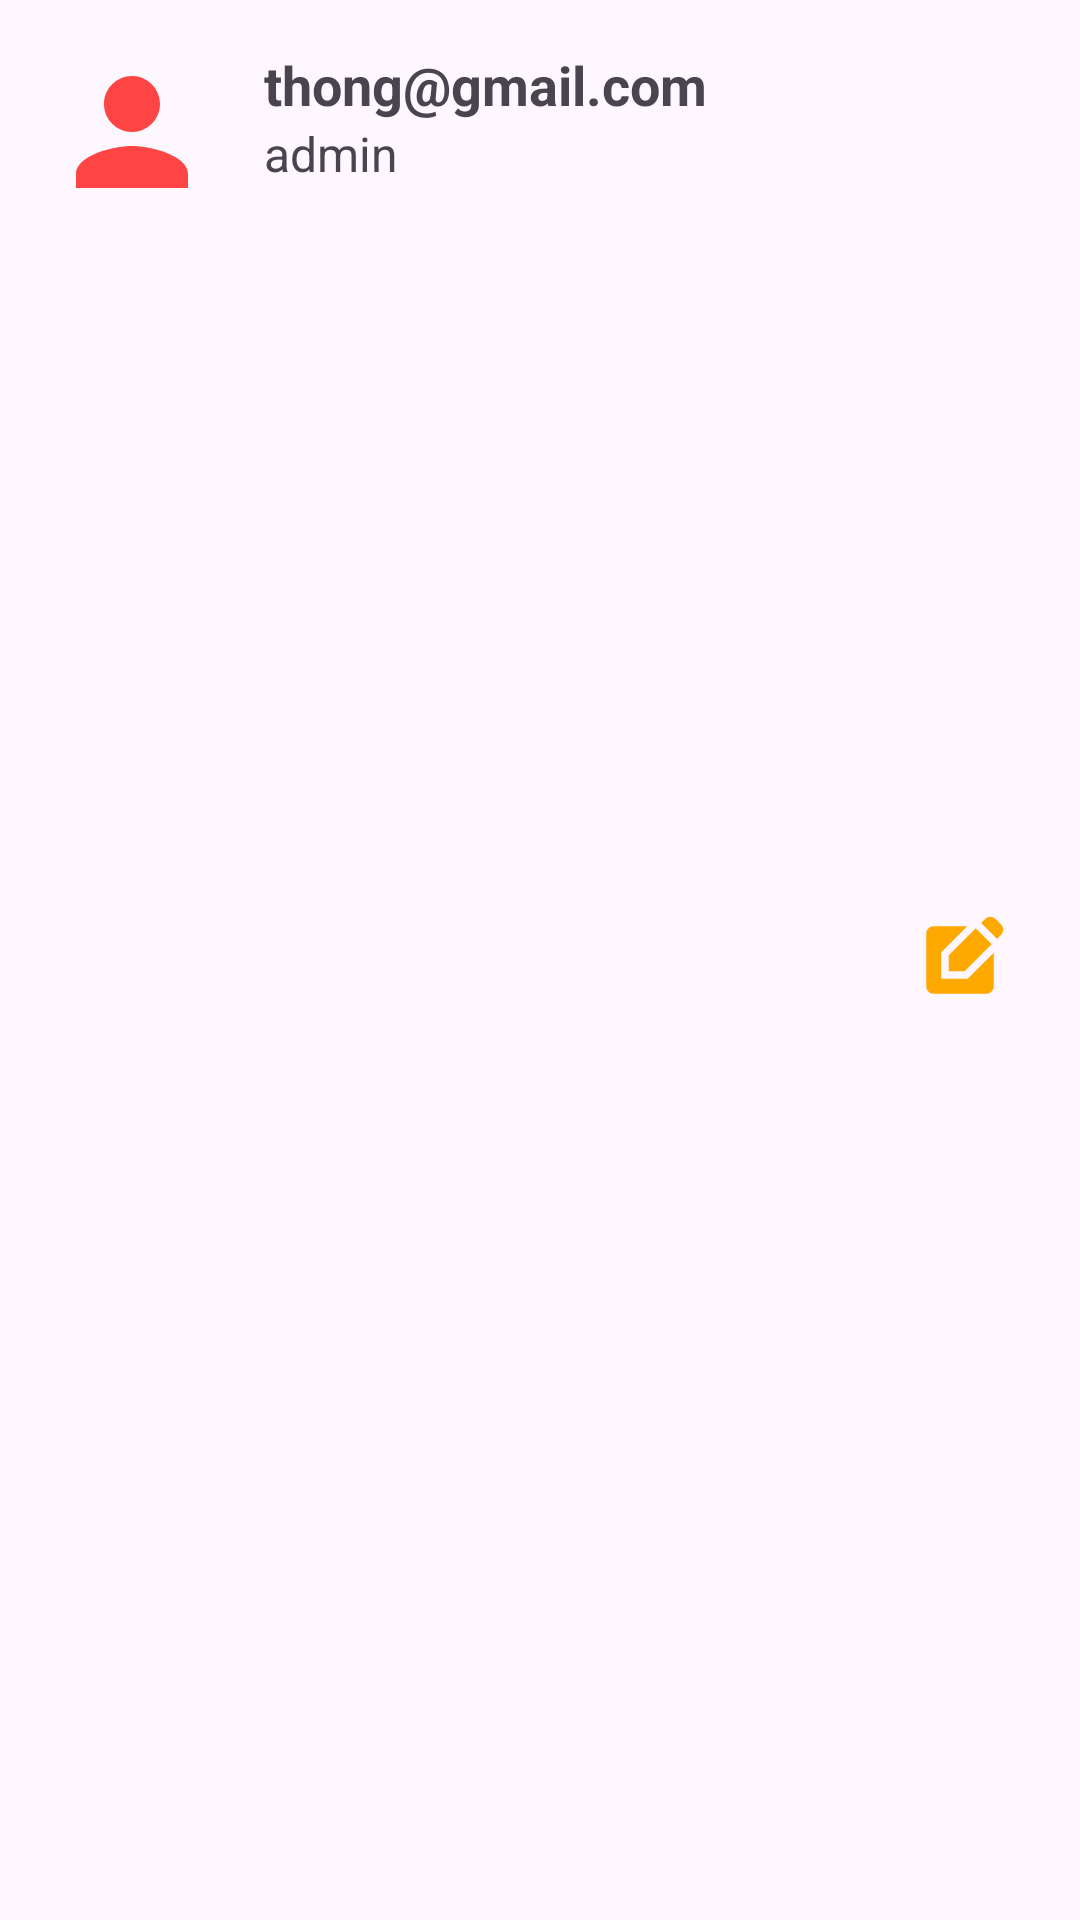

Where icons sit on this 1080 × 1920 app screen, as bbox(x1, y1, x2, y2):
update: bbox(926, 916, 1003, 994)
user contact: bbox(76, 76, 188, 188)
